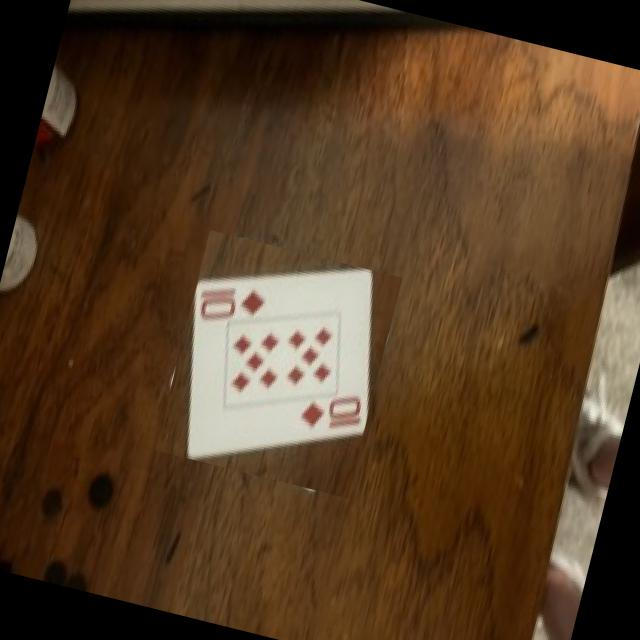10 of diamonds: (188, 270, 368, 458)
